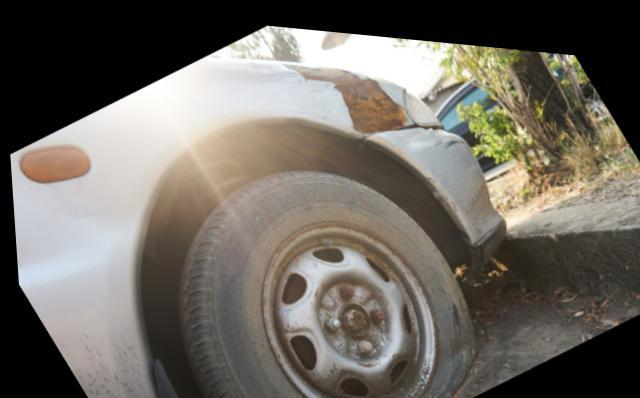tire flat: (168, 159, 475, 398)
